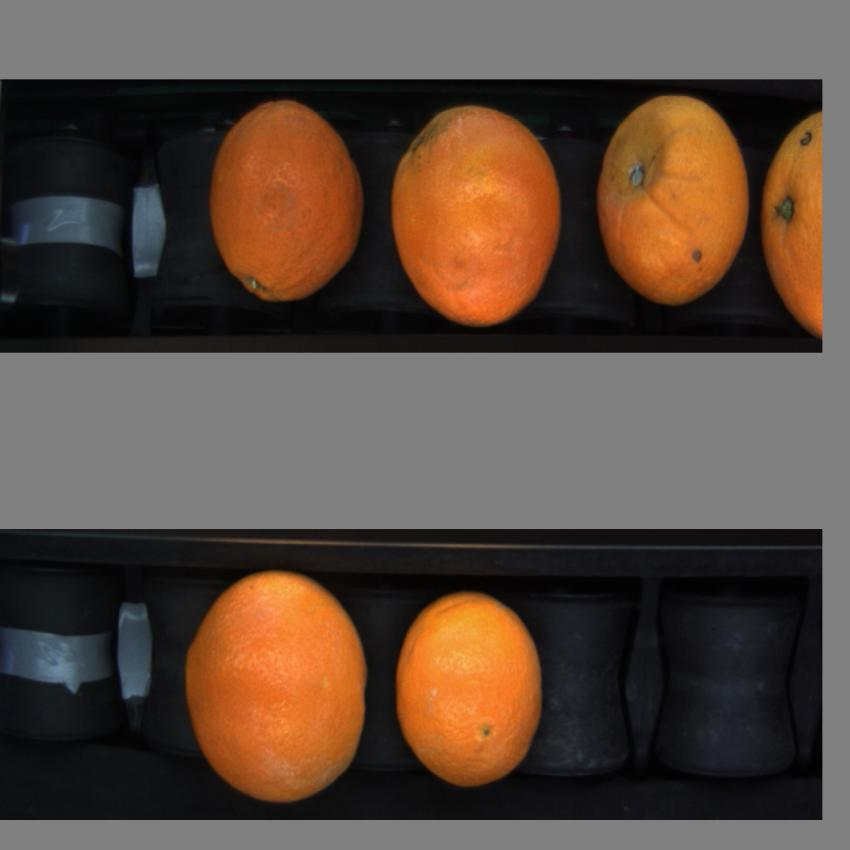Buen estado: (173, 566, 381, 808), (388, 93, 567, 342), (390, 584, 559, 798), (205, 94, 366, 310), (758, 106, 824, 350)
Mal estado: (596, 90, 753, 316)
